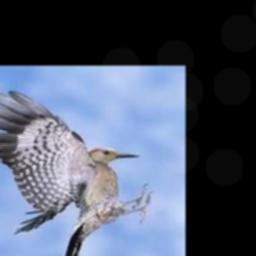Woodpecker: (0, 91, 153, 256)
